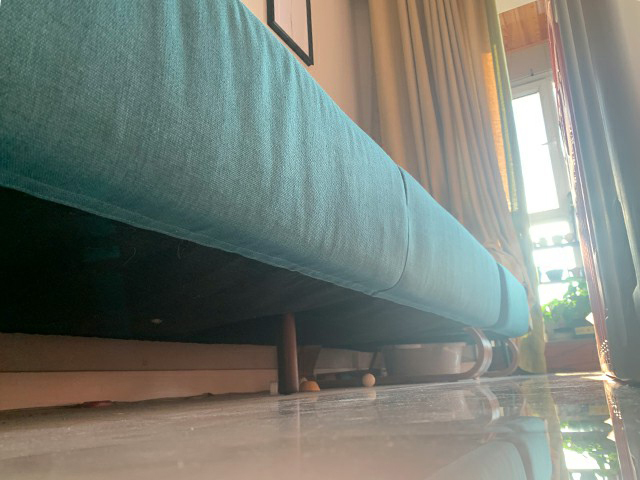curtain: (365, 1, 549, 374)
sofa: (1, 1, 531, 393)
